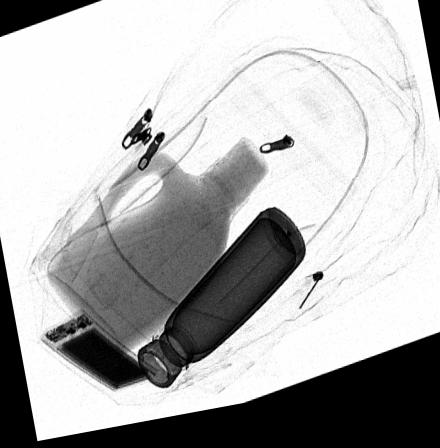Powerbank: (40, 310, 155, 396)
